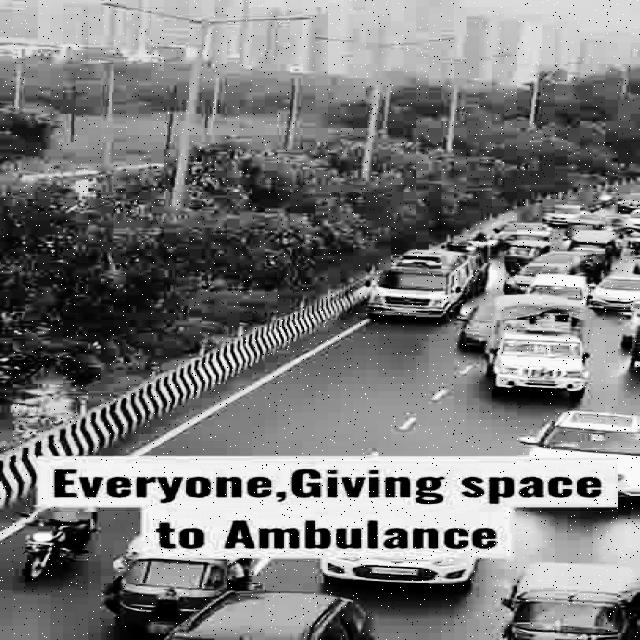Ambulance: (365, 246, 483, 320)
